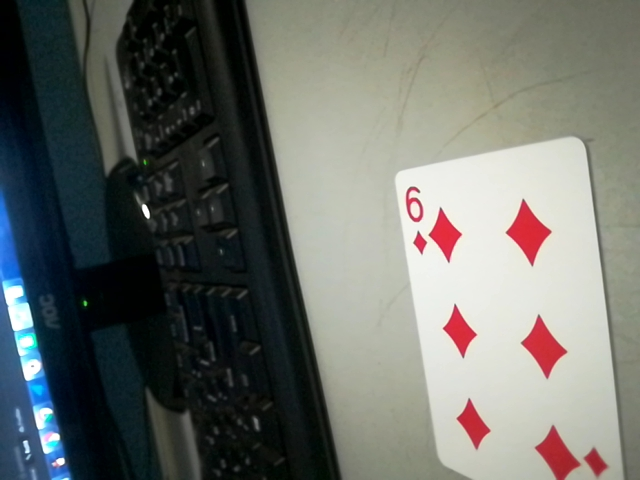fk 6: (394, 177, 439, 257)
